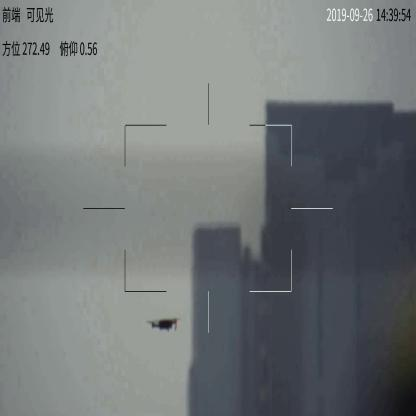uav: (145, 316, 182, 335)
